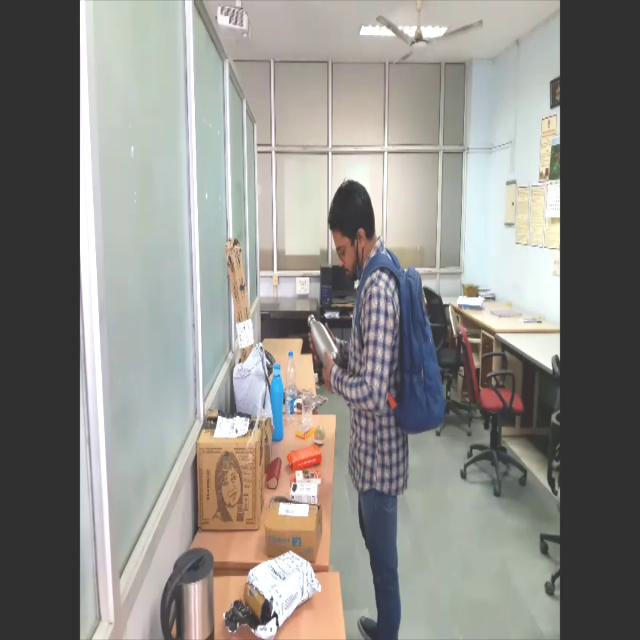normal: (304, 177, 450, 640)
